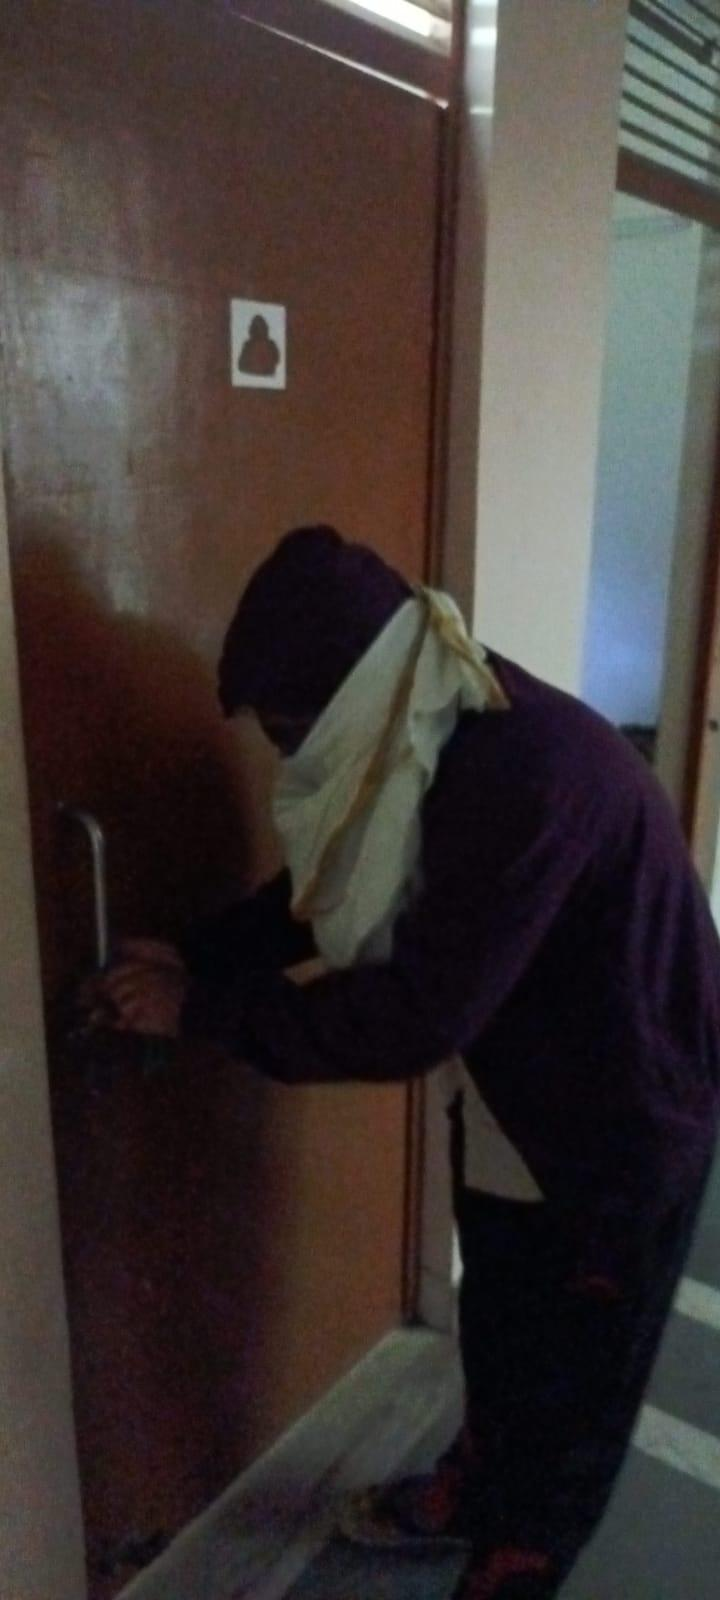suspicion: (0, 470, 720, 1600), (175, 500, 720, 1600)
